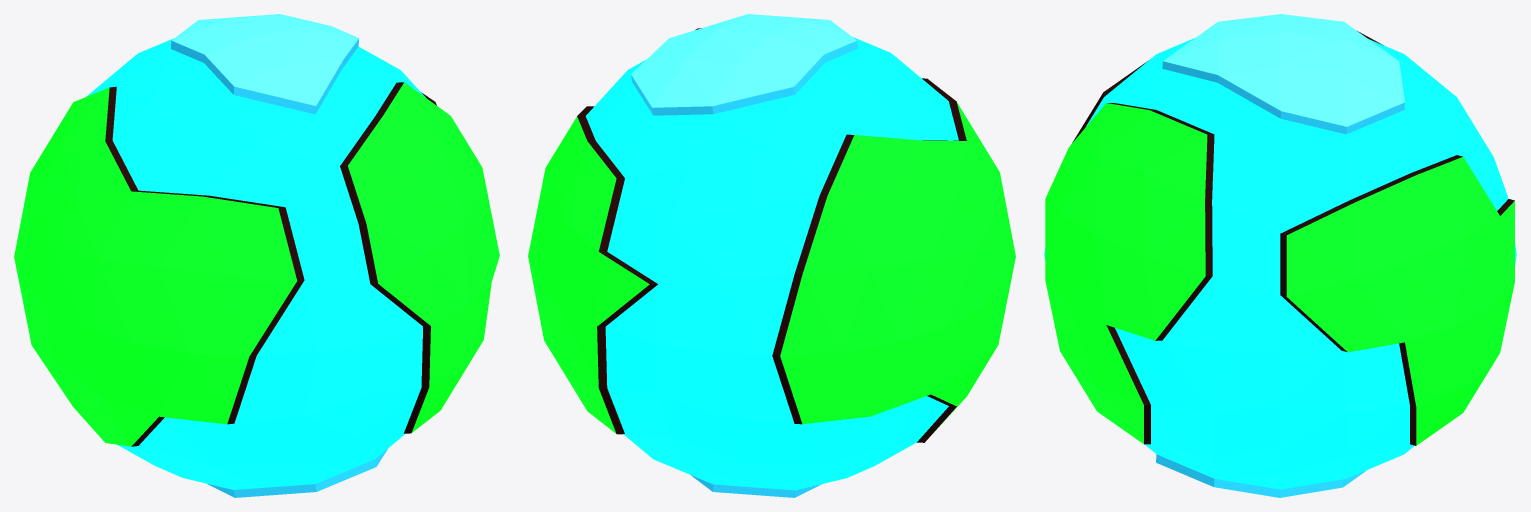
The picture shows the model from 3 angles, left to right: view 1: azimuth 30°, elevation 25°; view 2: azimuth 150°, elevation 25°; view 3: azimuth 270°, elevation 25°; orthographic projection.
Visible parts, largest first — view 1: GeoSphere001; view 2: GeoSphere001; view 3: GeoSphere001.
Part boxes in pixels (x1=…): GeoSphere001: x1=14, y1=14, x2=499, y2=497; GeoSphere001: x1=528, y1=14, x2=1015, y2=497; GeoSphere001: x1=1044, y1=14, x2=1516, y2=497.
Size of the model in its own units: 102 by 104 by 100.
